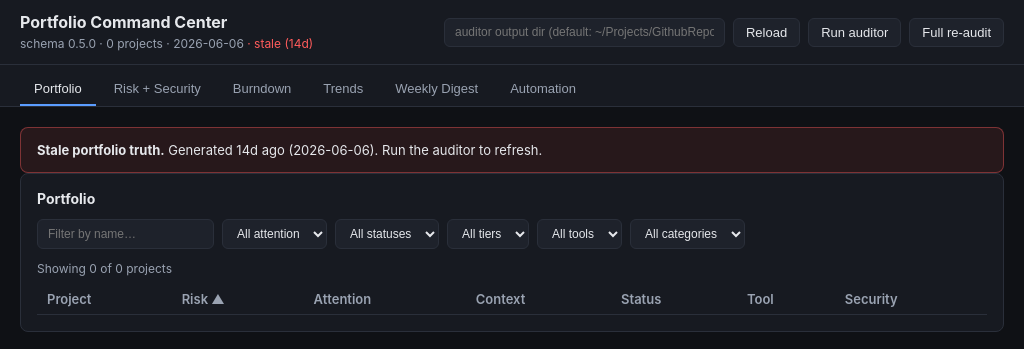
Scenario: App — navigation › switches to the Automation tab on click
Expected: the text "schema 0.5.0 · 0 projects · 2026-06-06 · stale (14d)" is shown, [20,36,313,51]
Click the tab "Automation". click: (543, 90)
box: [496,73,590,106]
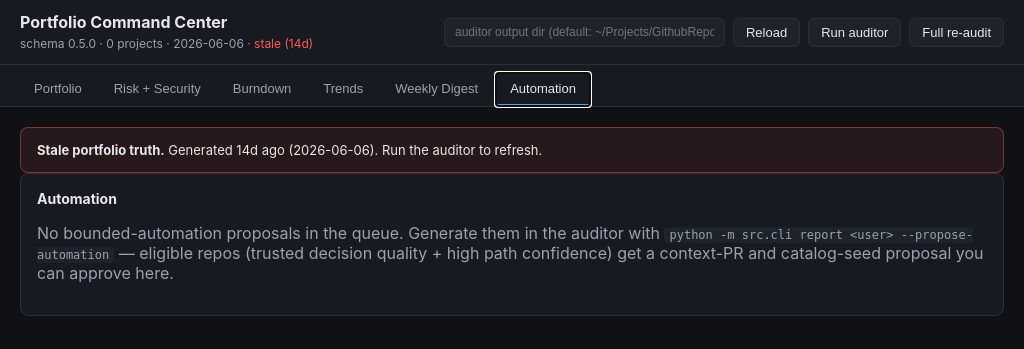
Result: the heading "Automation" is shown at [37,190,117,207]
